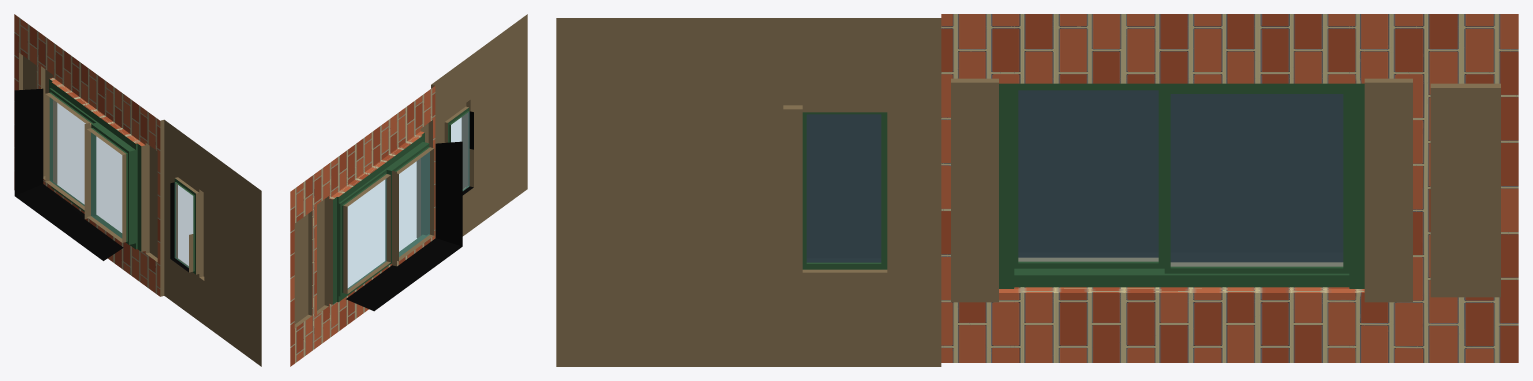
File: wall01.fbx
3 renders of one model, left to right at view 1: azimuth 30°, elevation 25°; view 2: azimuth 150°, elevation 25°; view 3: azimuth 270°, elevation 25°, orthographic. The views are drawn at different scales.
Visible parts, largest first — view 1: Cube; view 2: Cube; view 3: Cube.
Part boxes in pixels (x1=…): Cube: x1=14, y1=14, x2=261, y2=366; Cube: x1=290, y1=14, x2=527, y2=366; Cube: x1=556, y1=14, x2=1518, y2=366.
Bounding box in the file's own units: 60 × 200 × 500.
